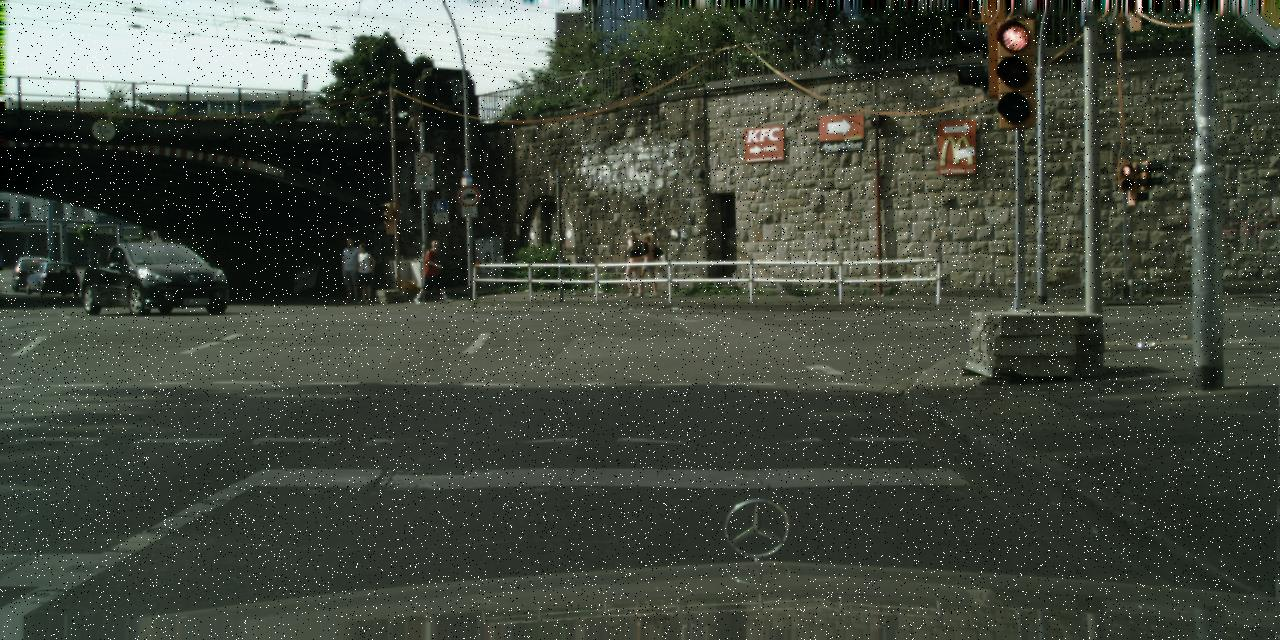ped: (618, 228, 646, 296), (421, 239, 446, 304), (633, 232, 658, 296), (338, 238, 363, 301), (351, 243, 376, 303)
